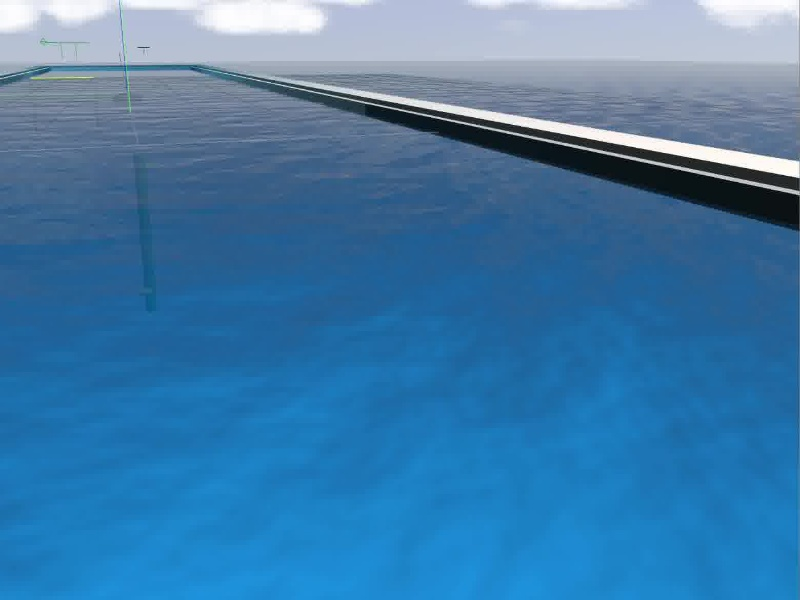gate: (29, 75, 96, 133)
